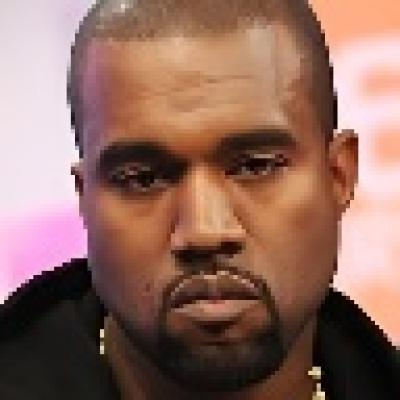sad: (73, 28, 348, 381)
